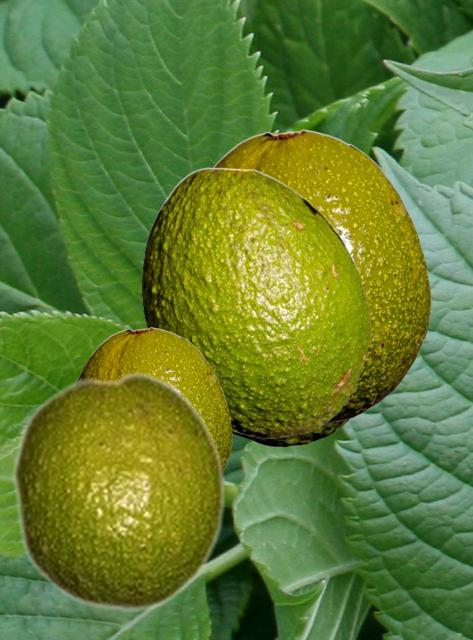avocado: (211, 129, 430, 425), (141, 167, 370, 437), (11, 370, 226, 613), (78, 327, 231, 469), (232, 420, 349, 446)
